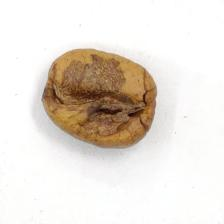NG: (53, 51, 145, 141)
